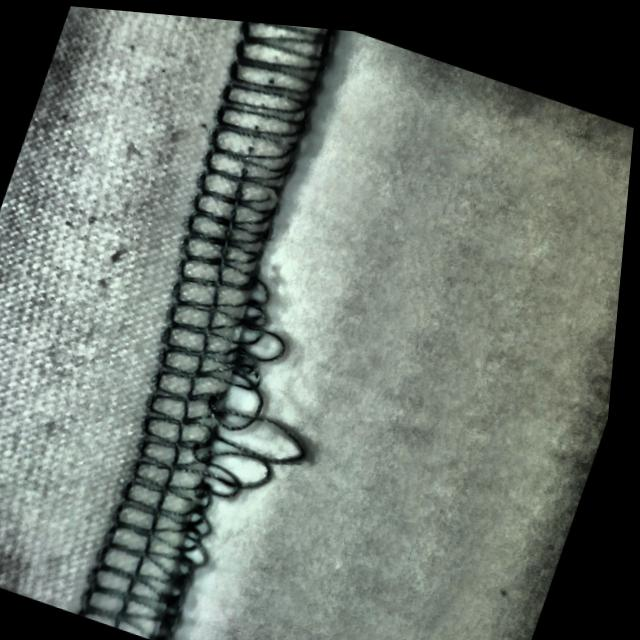Stitch: (88, 243, 364, 601)
